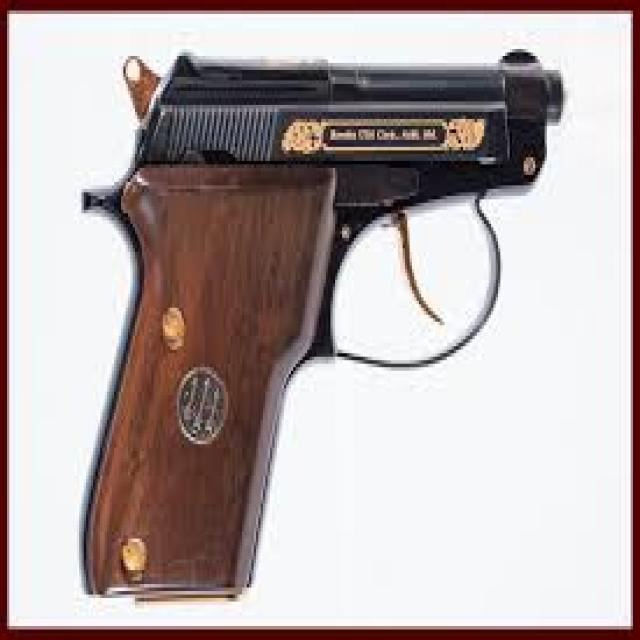pistol: (74, 31, 572, 611)
